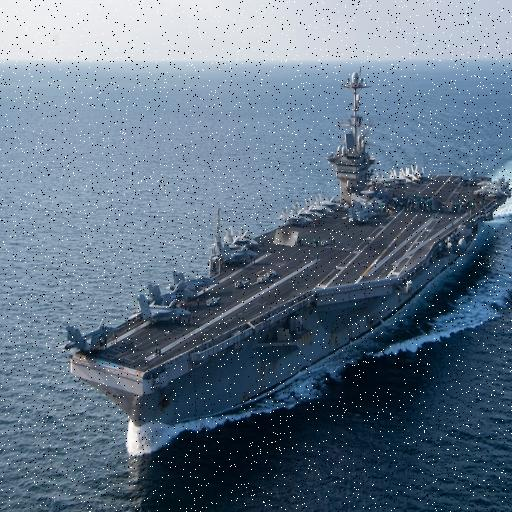Portanaves: (61, 69, 512, 463)
